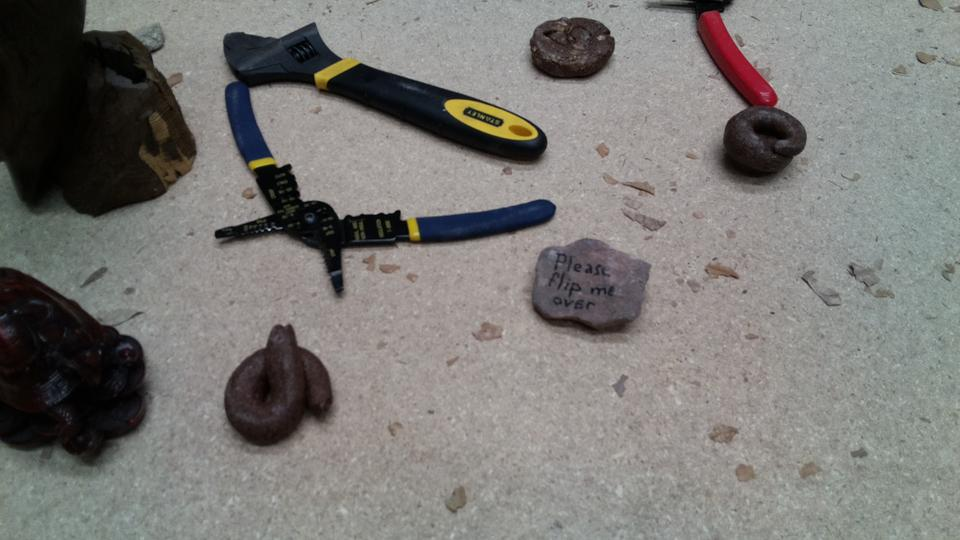poop: (221, 319, 338, 450), (718, 102, 811, 180), (524, 11, 619, 82)
